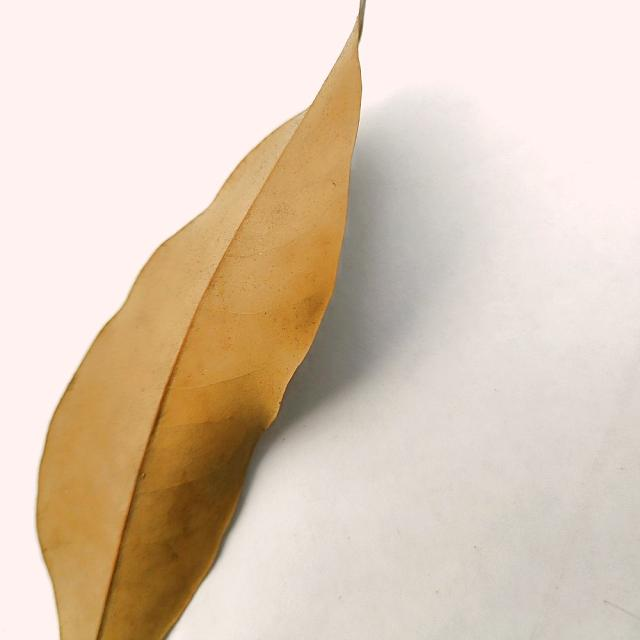Dry_Leaf-Lychee: (35, 0, 366, 639)
